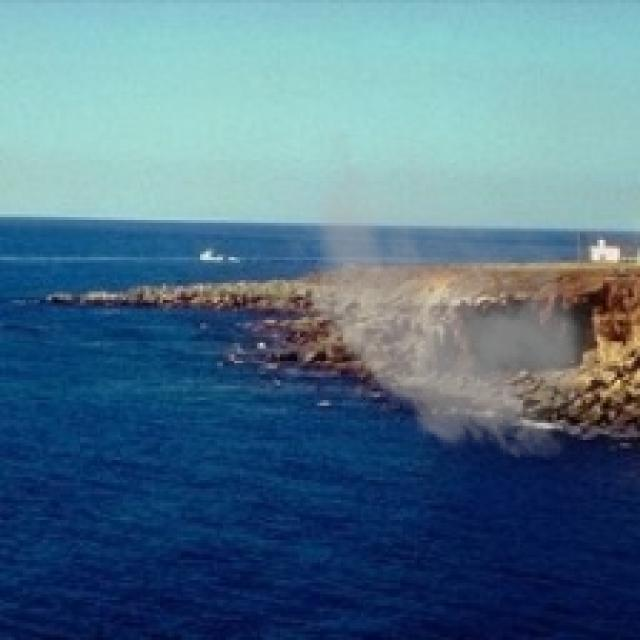smoke: (266, 114, 620, 472)
